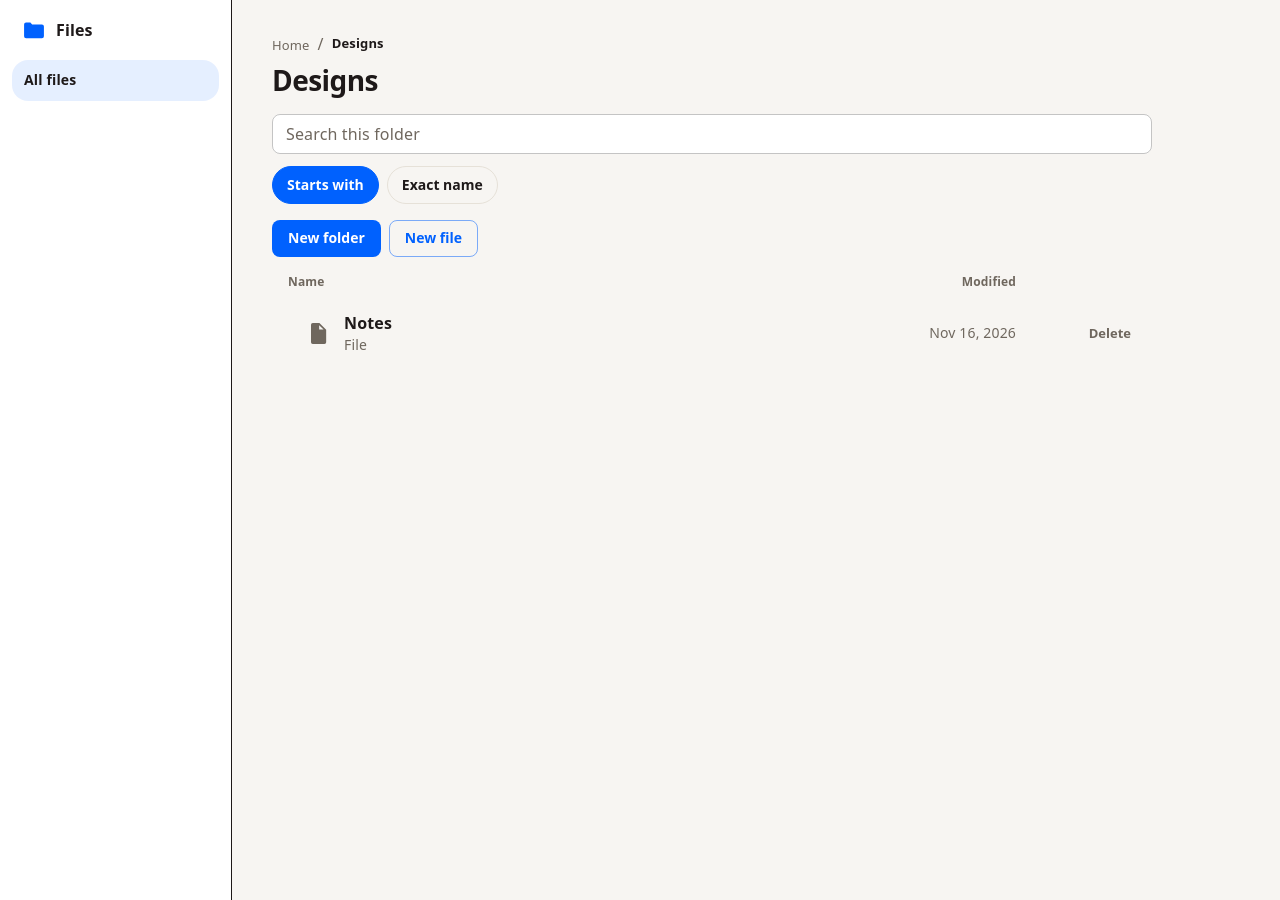
Test: delete › confirms a file delete without the folder warning
What coordinates should you click on to do the following:
click the button with aria-label "Delete Notes"
I would click on:
 (1110, 333)
Its box is [1084,317,1136,348].
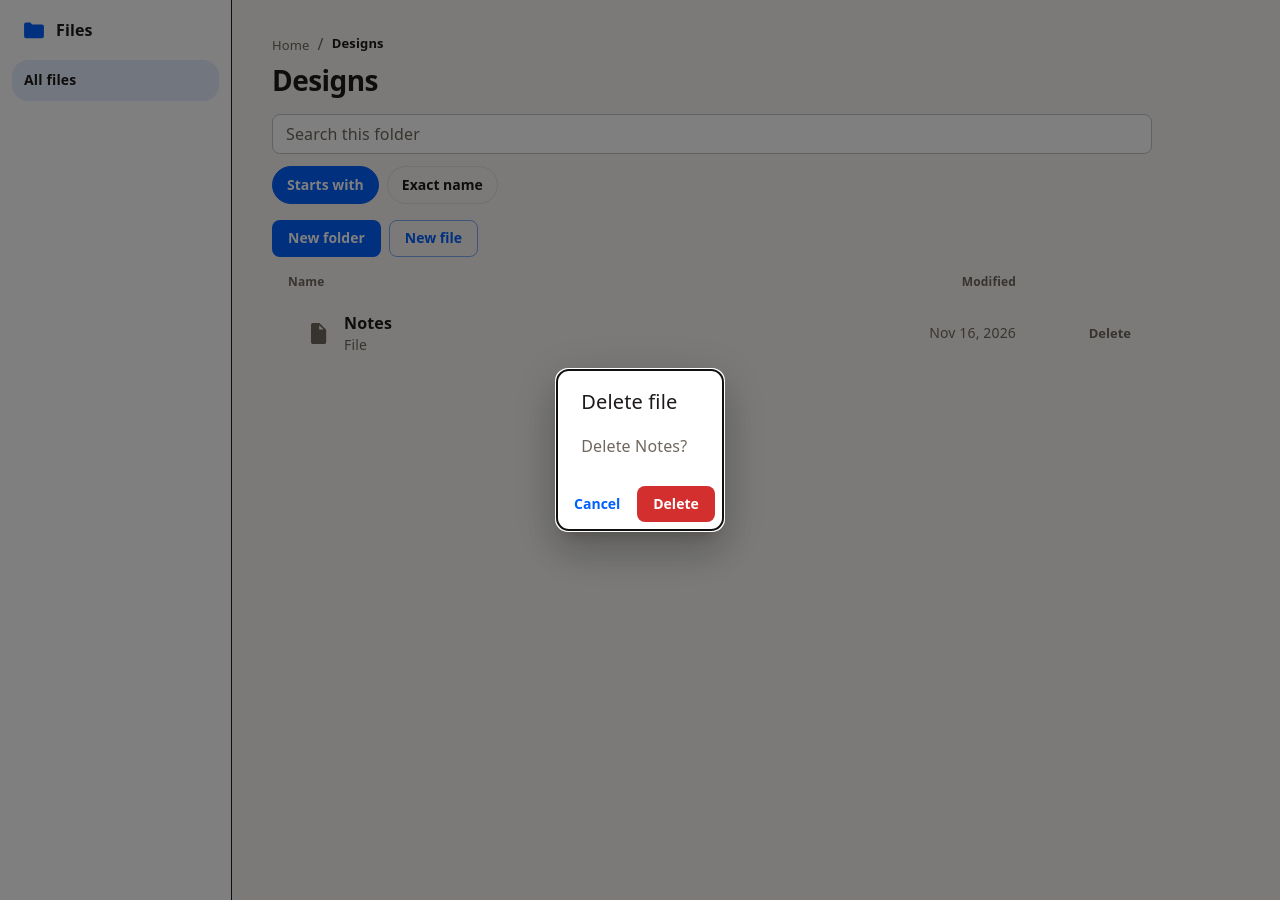
Now the text "Delete Notes?" is shown, box [581,434,699,458]
What coordinates should you click on to do the following:
click the button "Delete"
I would click on:
 (676, 504)
Its box is [637,486,715,522].
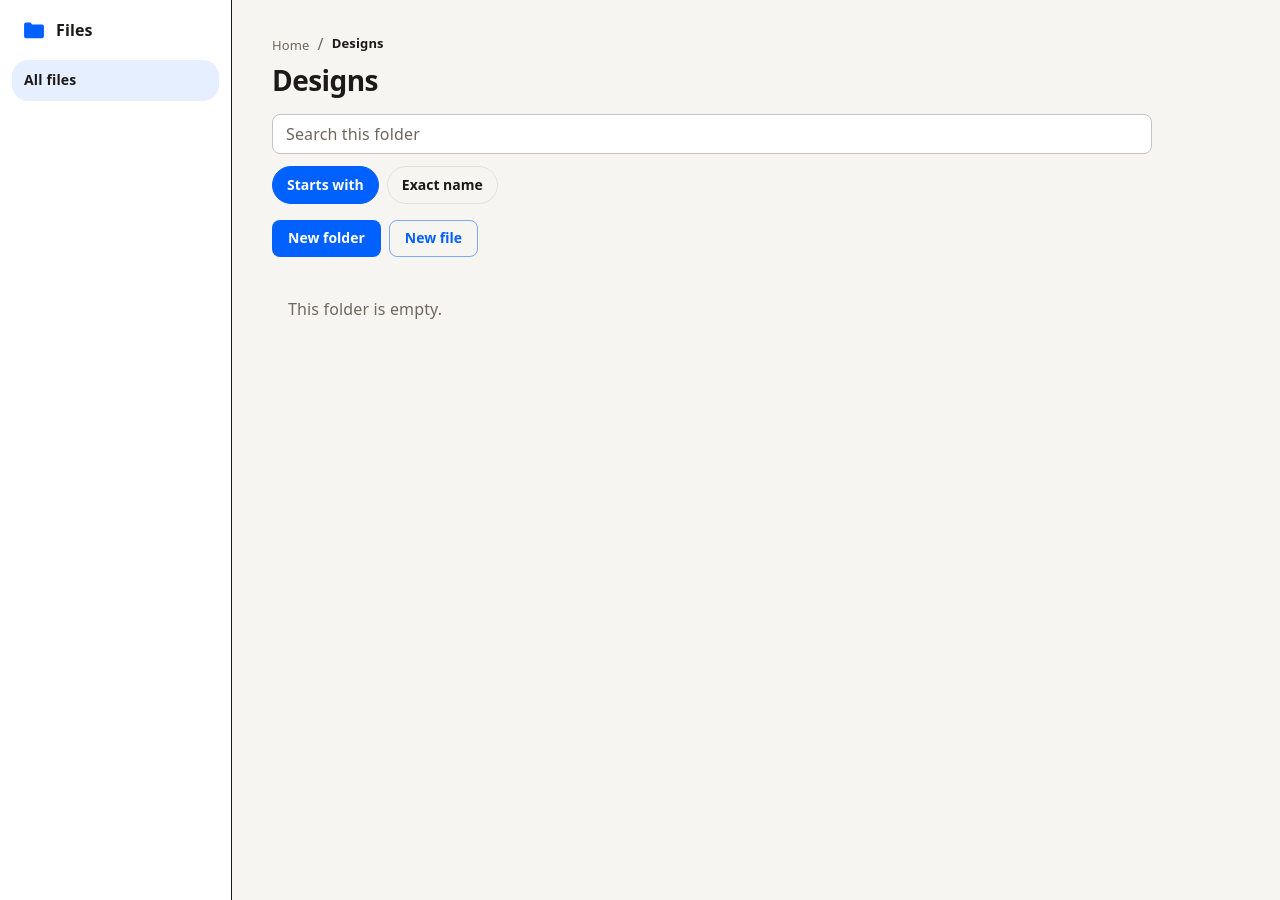
Expected: the heading "Designs" is shown, [272,61,378,99]
Now the text "Notes" is gone
